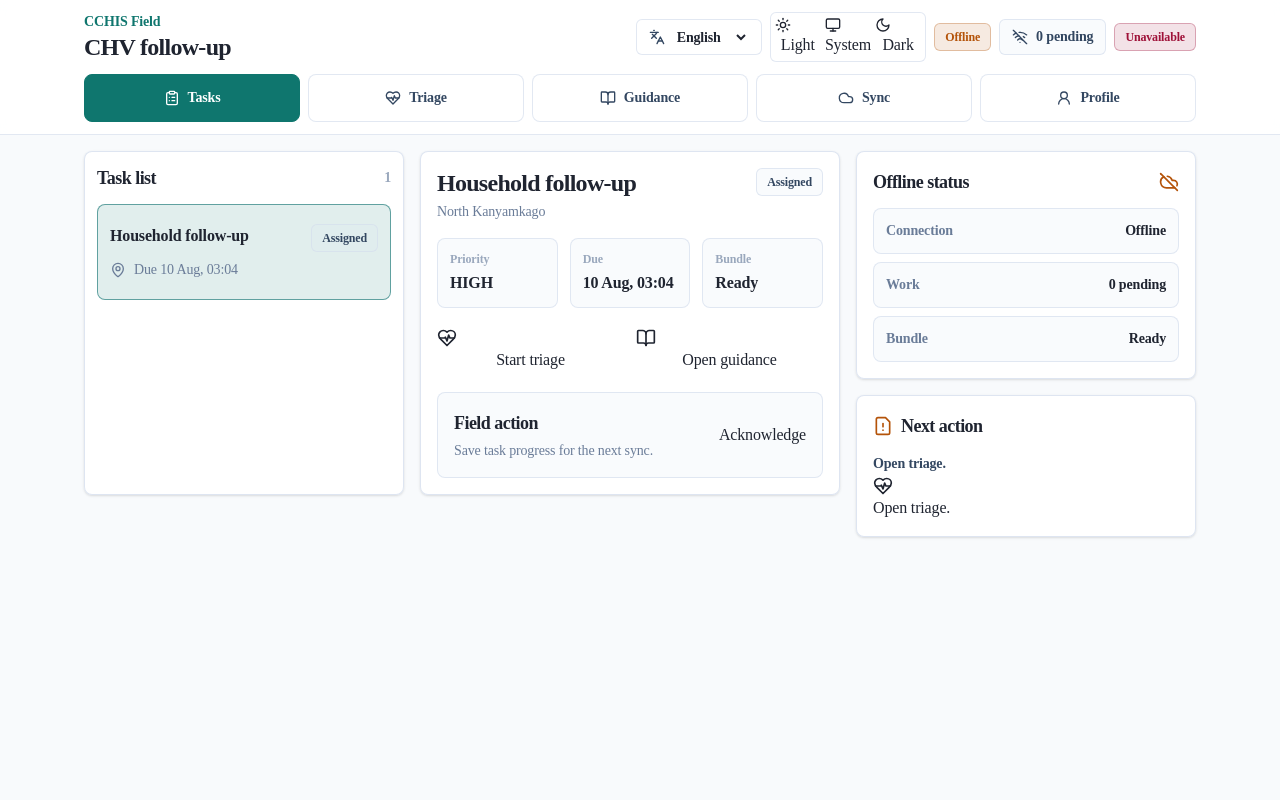
Test: ChvOfflinePage › lets a CHV complete a basic assigned follow-up while offline
The image size is (1280, 800).
Check: the heading "CHV follow-up" is shown, box top-left (84, 32), bottom-right (231, 62)
Click the button "Start triage" at (530, 350), box top-left (437, 328), bottom-right (624, 372)
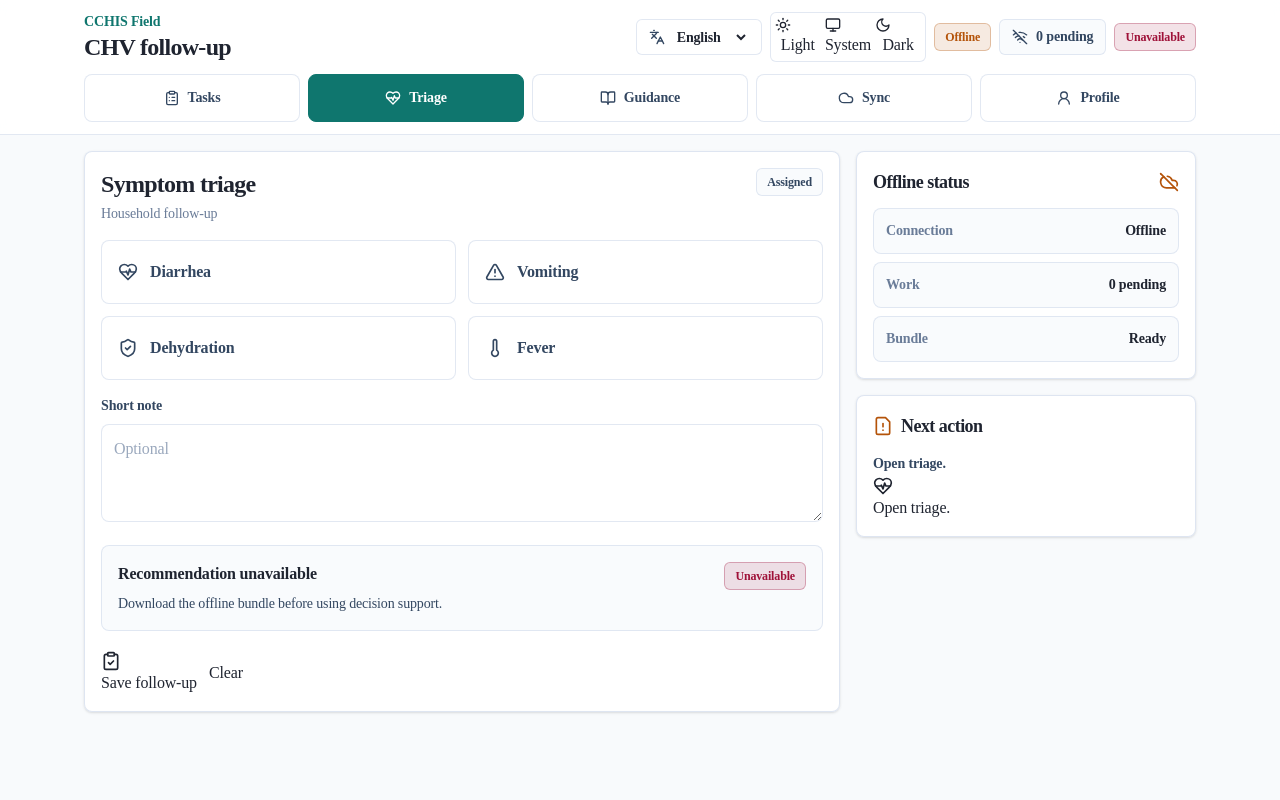
Click the button "Diarrhea" at (180, 272), box top-left (101, 240), bottom-right (456, 304)
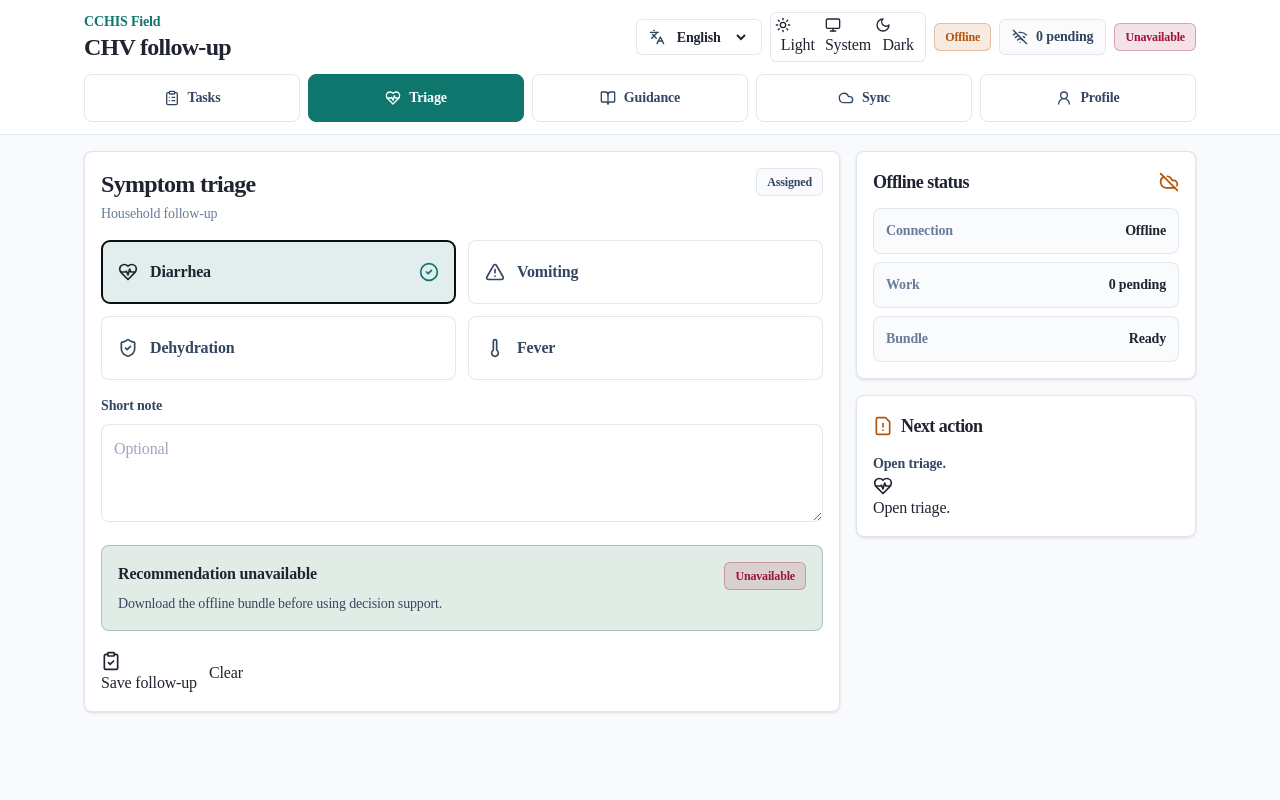
Click the button "Vomiting" at (548, 272), box top-left (468, 240), bottom-right (823, 304)
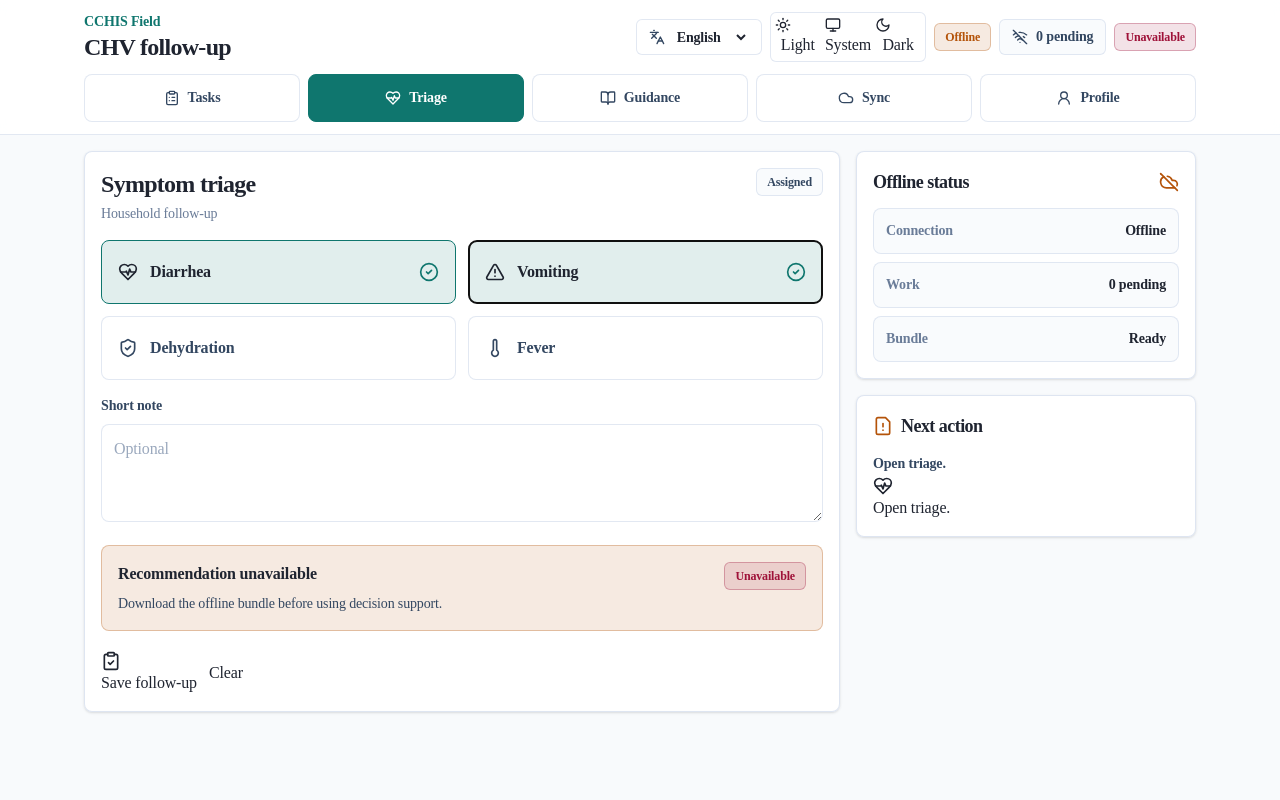
Type "Loose stool and vomiting" into the text box labelled "Short note" at (462, 473), box top-left (101, 424), bottom-right (823, 522)
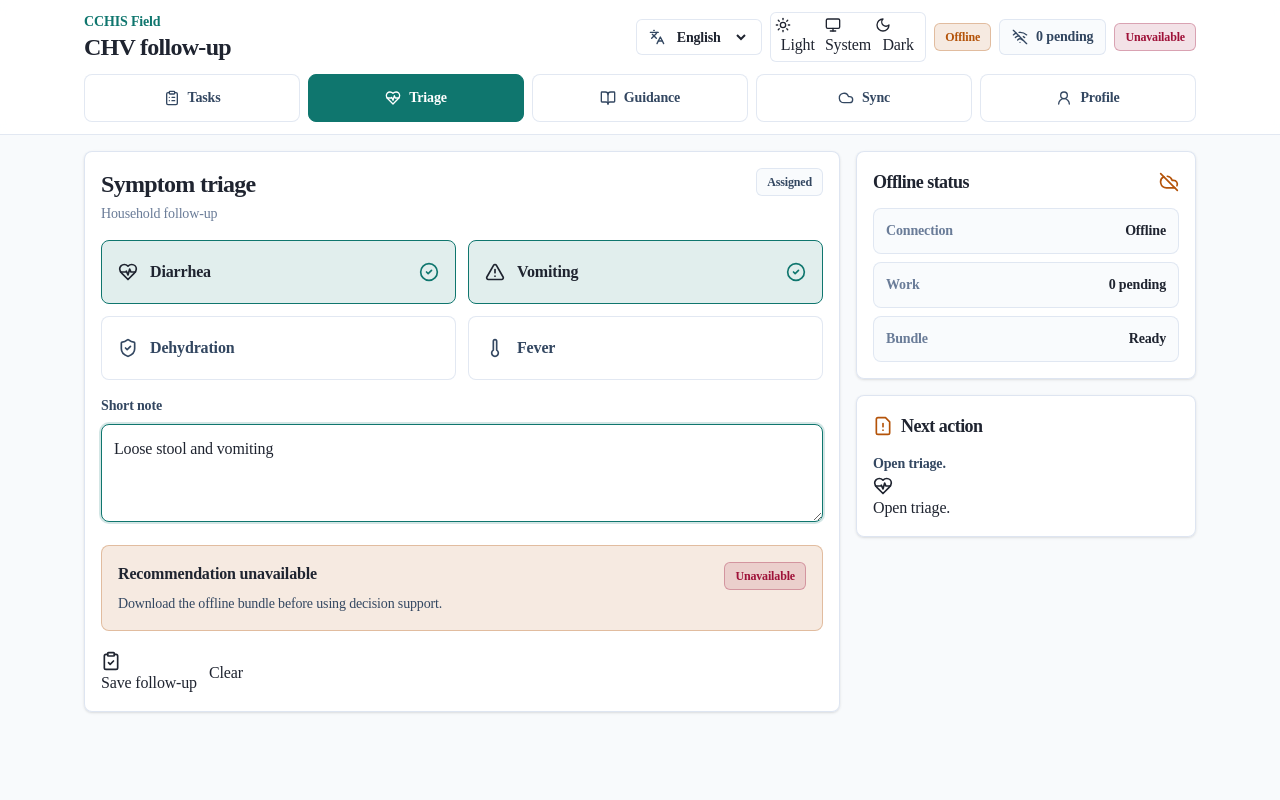
Click the button "Save follow-up" at (149, 673), box top-left (101, 651), bottom-right (197, 695)
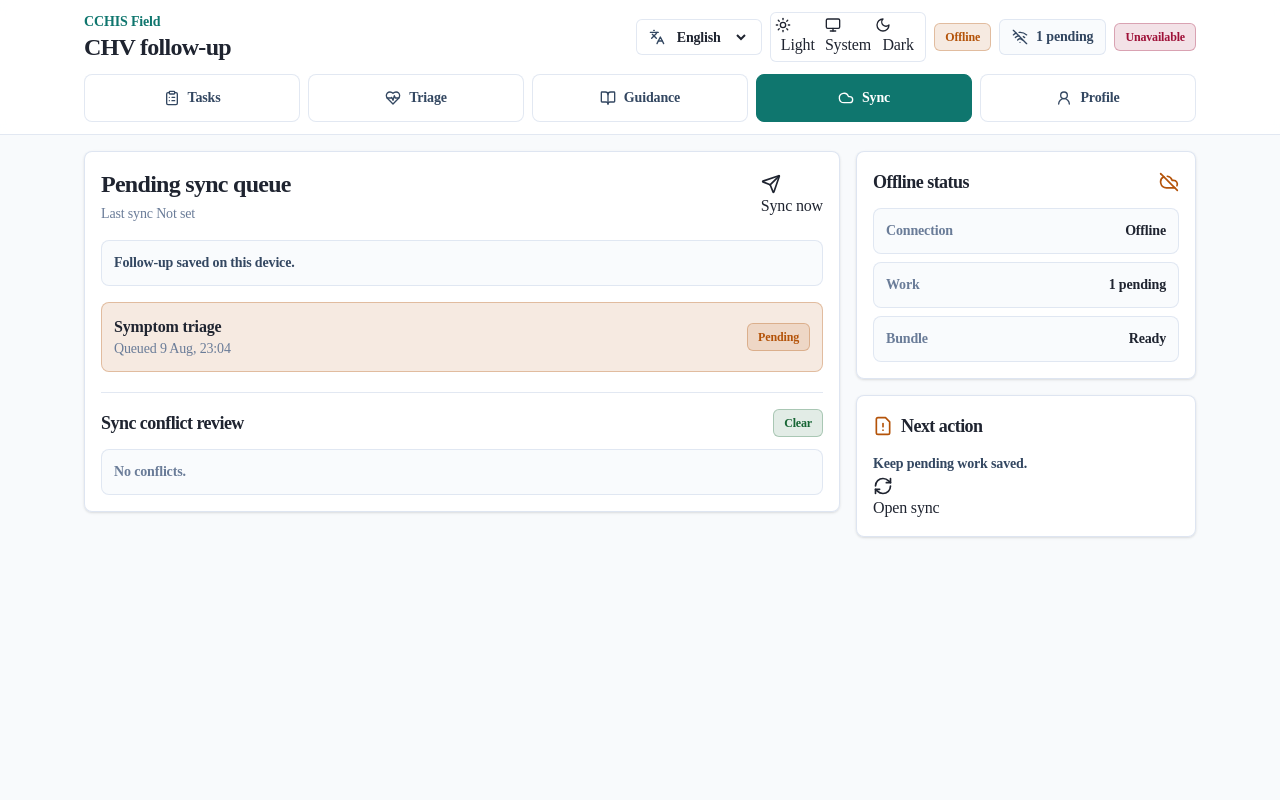
Check: the text "Follow-up saved on this device." is shown, box top-left (101, 240), bottom-right (823, 286)
Check: the text "Pending" is shown, box top-left (747, 323), bottom-right (810, 351)
Check: the button "Sync now" is disabled, box top-left (761, 174), bottom-right (823, 218)
